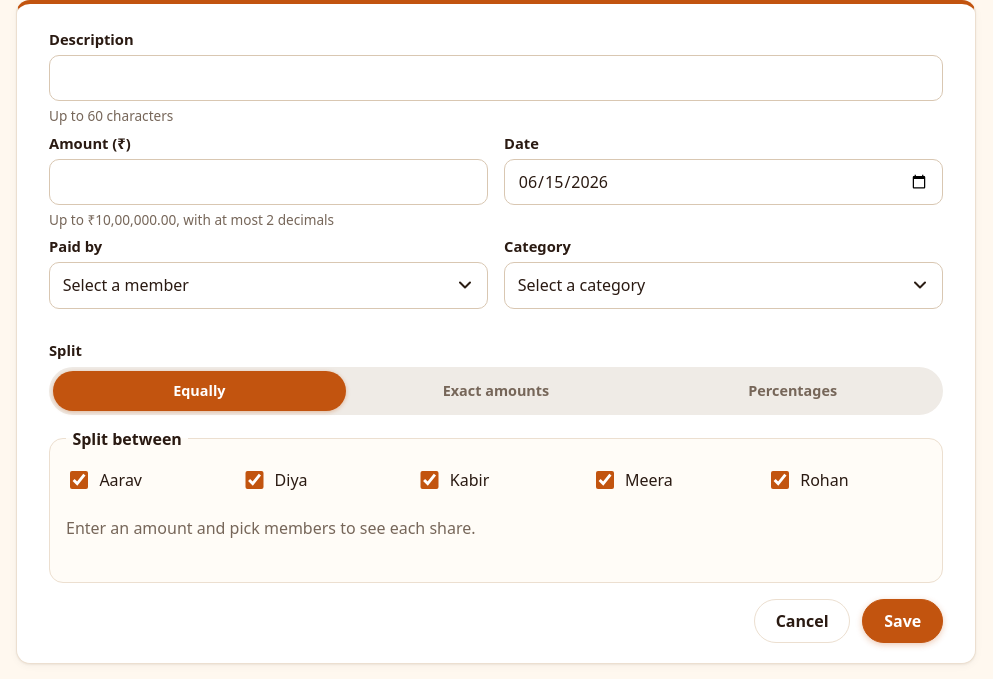
Test: ExpenseForm › live breakdown › updates when members are deselected
Type "90" into the field labelled "Amount (₹)" at (268, 182), box [49, 158, 488, 205]
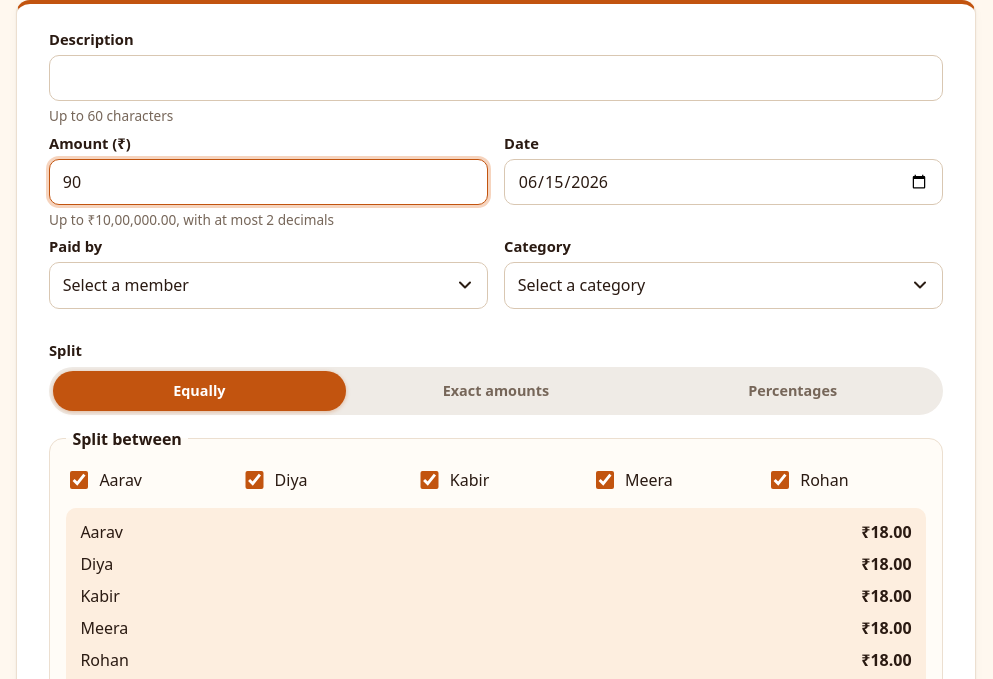
Click the checkbox labelled "Rohan" at (780, 480), box [771, 471, 789, 489]
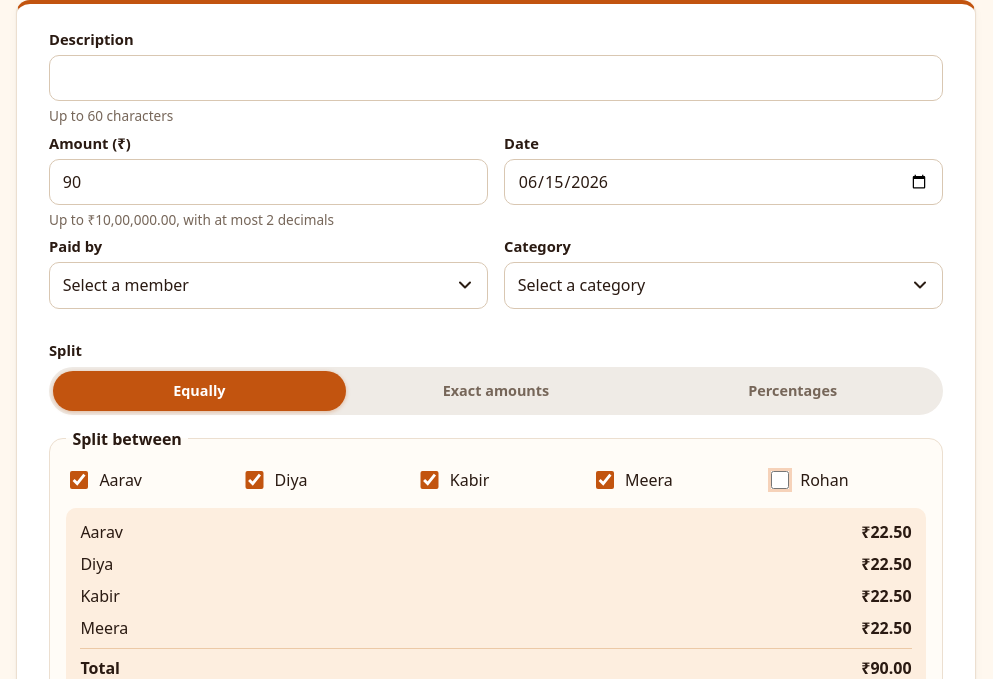
Click the checkbox labelled "Meera" at (605, 480), box [596, 471, 614, 489]
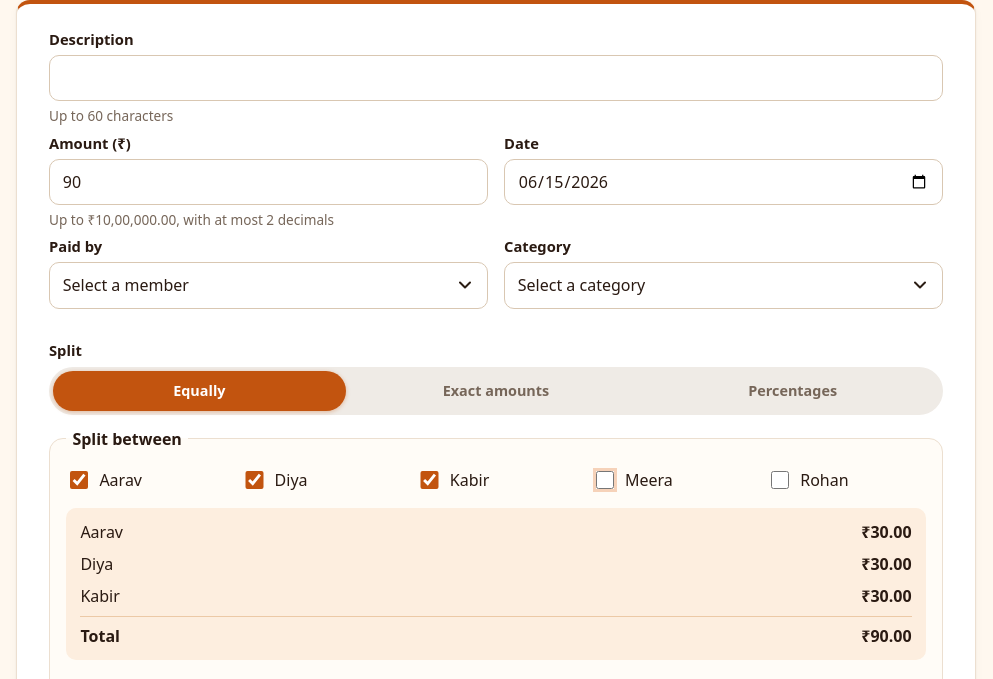
Click the checkbox labelled "Kabir" at (430, 480), box [420, 471, 439, 489]
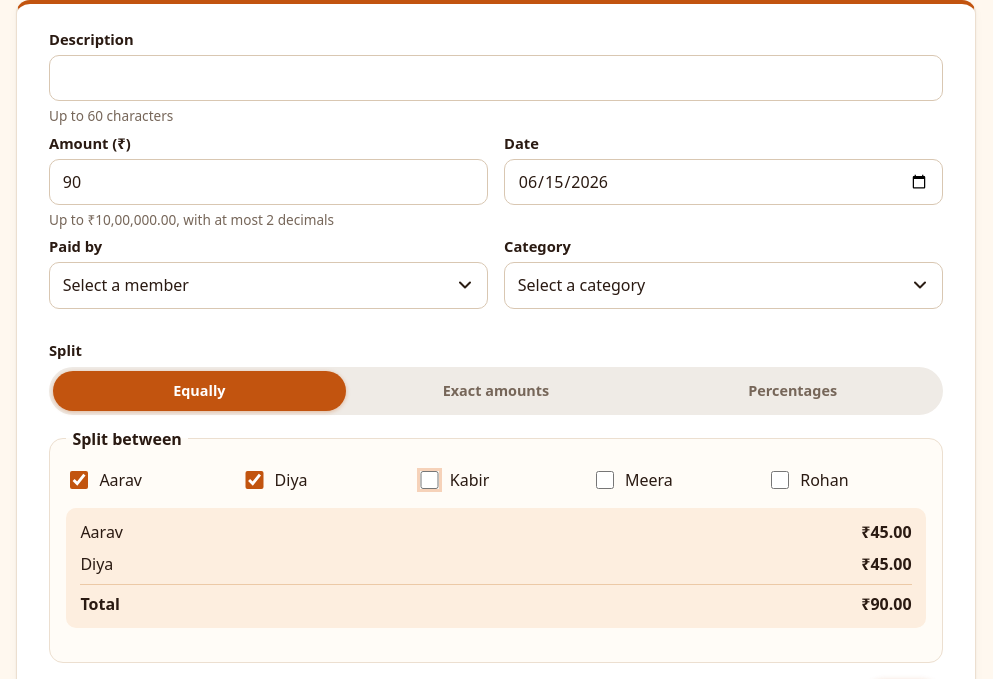
Check: the list items read "Aarav₹45.00", "Diya₹45.00", "Total₹90.00", in this order, box [80, 516, 912, 548]; [80, 548, 912, 580]; [80, 584, 912, 620]
